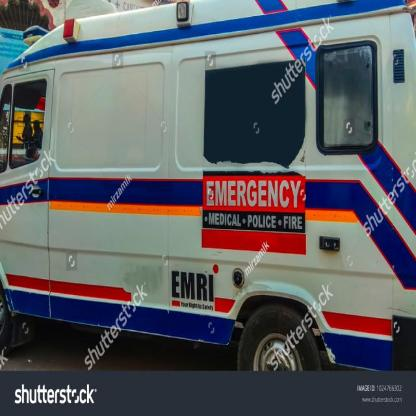priority: (0, 0, 416, 372)
